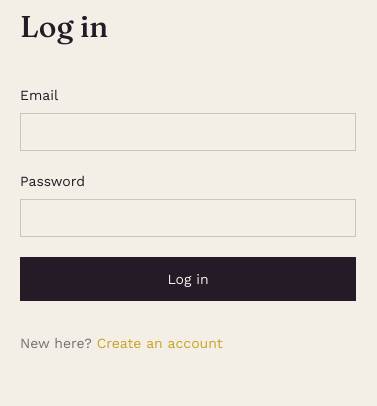
Test: Login page › shows an error message on invalid credentials
Type "wrong@aterra.shop" into the field labelled "Email" at coordinates (188, 132), box [20,113,356,151]
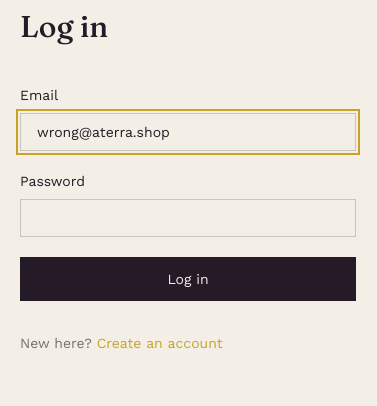
Type "wrongpassword" into the password field labelled "Password" at coordinates (188, 218), box [20,199,356,237]
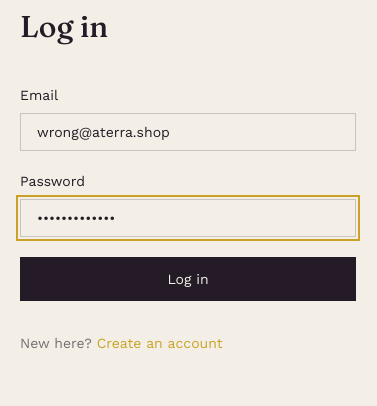
Click the button "Log in" at coordinates (188, 279), box [20,257,356,301]
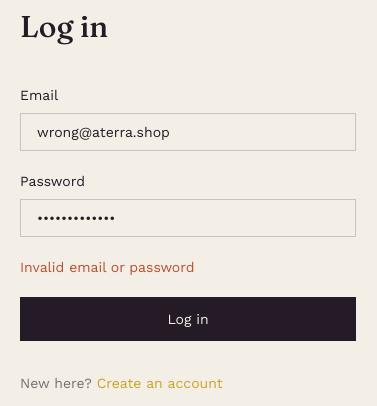
Expected: the text "Invalid email or password" is shown, [20,259,194,275]
